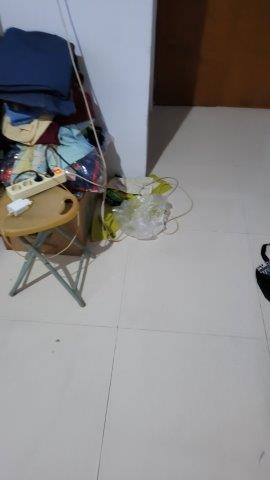plastik: (101, 186, 173, 247)
